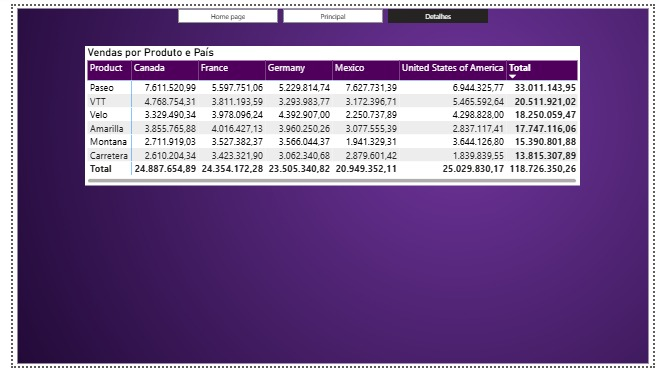

This screenshot's page, from the dashboard's own definition file:
{"tool":"powerbi","page":{"name":"Detalhes","canvas":[1280,720],"ordinal":2},"visuals":[{"type":"image","title":"fundo_purple","box":[0,0,1280.3,720],"z":0},{"type":"pageNavigator","box":[330,6,620,28],"z":1000},{"type":"pivotTable","title":"Vendas por Produto e País","fields":{"Columns":["financials.Country"],"Rows":["financials.Product"],"Values":["Sum(financials. Sales)"]},"box":[144.1,80.6,990.2,278.9],"z":1001}]}

Visuals, with their boxes on the page's 1280x720 design canvas (x1, y1, x2, y2). These are canvas units, not pixel positions in the 659x380 screenshot, which may show the page scaled, cropped or inside an application window:
"fundo_purple" image: 0/0/1280/720
pageNavigator: 330/6/950/34
"Vendas por Produto e País" pivotTable: 144/81/1134/360
